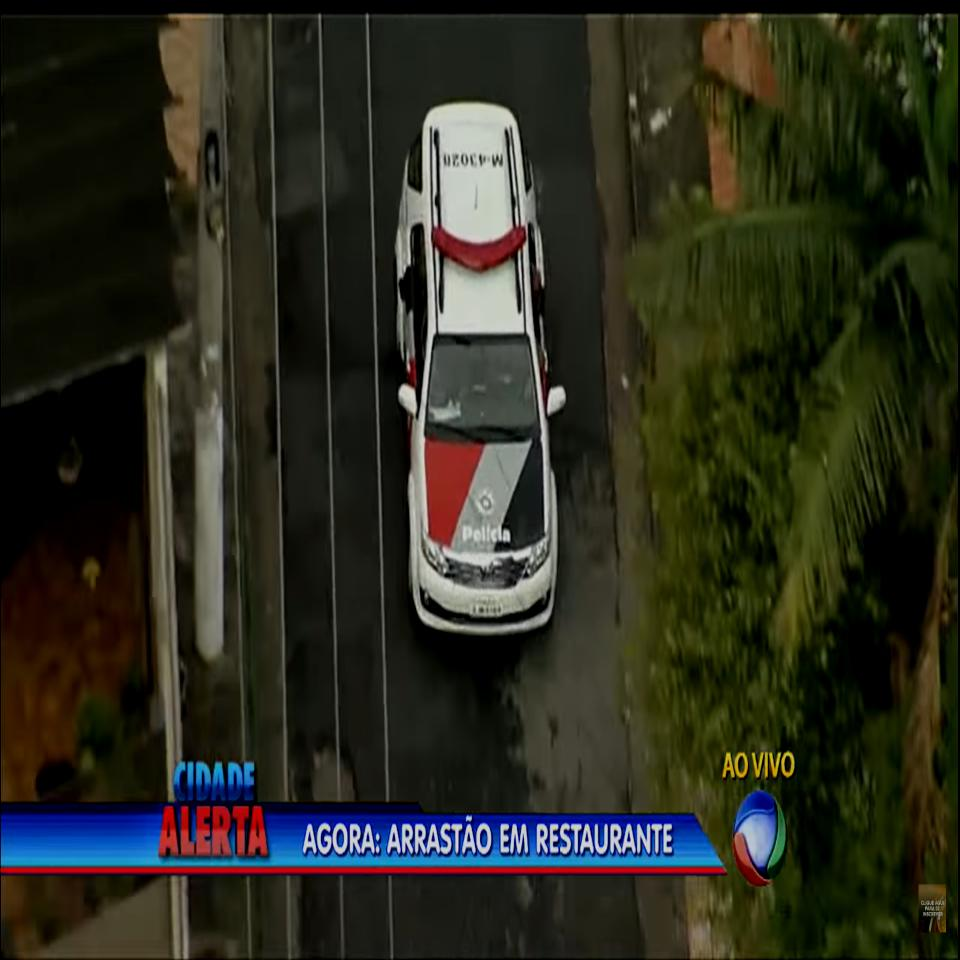viatura: (390, 100, 570, 640)
